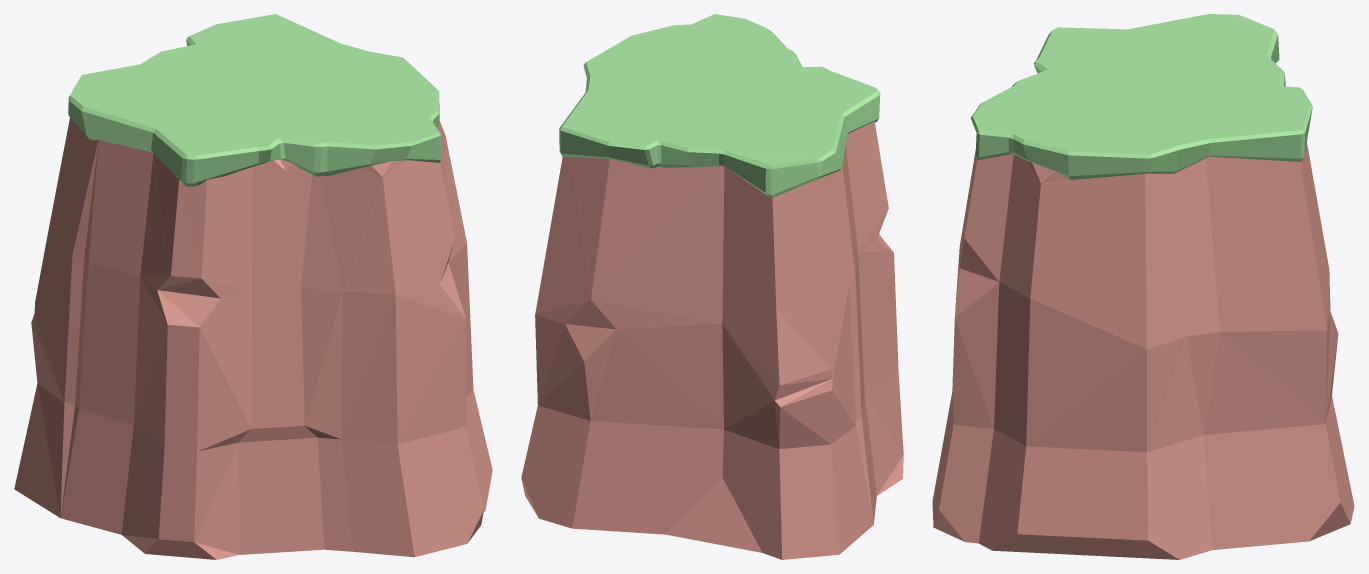
File: Plane_Vlad.fbx
3 renders of one model, left to right at view 1: azimuth 30°, elevation 25°; view 2: azimuth 150°, elevation 25°; view 3: azimuth 270°, elevation 25°, orthographic. The views are drawn at different scales.
Parts seen in each view (by area): view 1: Plane; view 2: Plane; view 3: Plane.
Boxes of the visible parts, x1,y1,x2,y2 form: Plane: [14, 14, 492, 559]; Plane: [521, 14, 903, 559]; Plane: [932, 14, 1354, 559].
Bounding box in the file's own units: 690 × 716 × 695.
